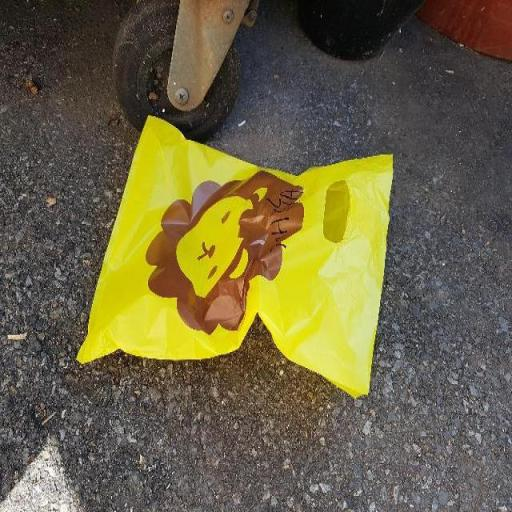plastic-bag: (73, 113, 397, 401)
